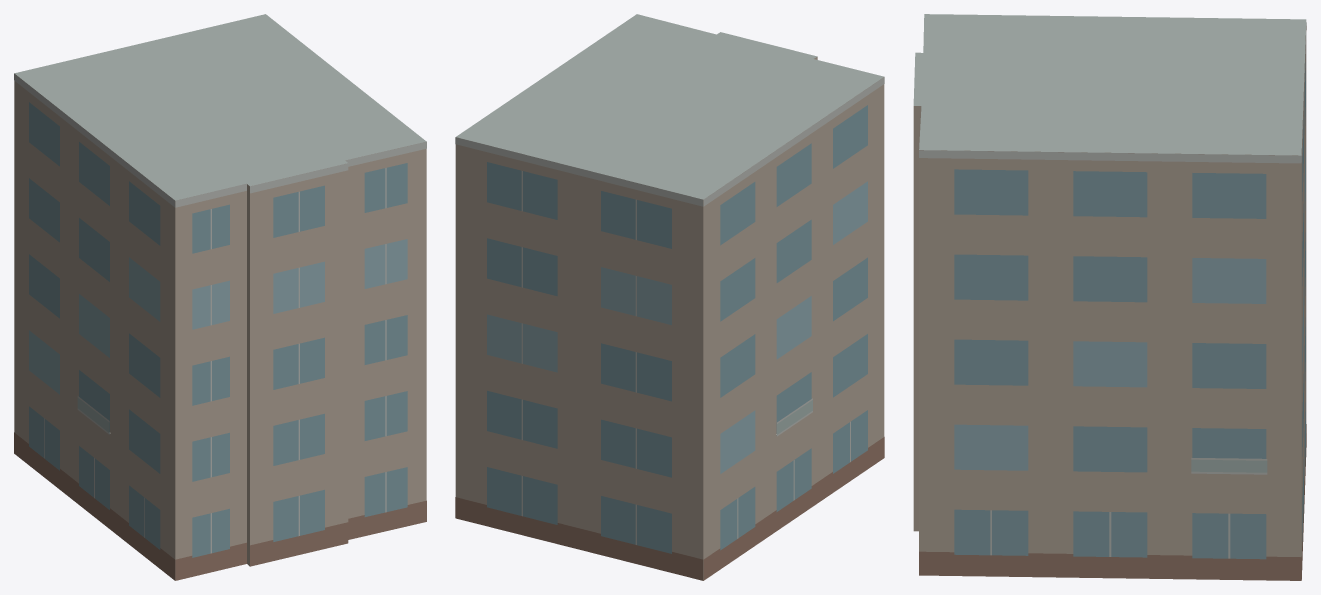
Rendered from survey-upis-32995727.glb.
3 renders of one model, left to right at view 1: azimuth 30°, elevation 25°; view 2: azimuth 150°, elevation 25°; view 3: azimuth 270°, elevation 25°, orthographic. The views are drawn at different scales.
Visible parts, largest first — view 1: survey-upis-32995727.tmp; view 2: survey-upis-32995727.tmp; view 3: survey-upis-32995727.tmp.
Part boxes in pixels (<box>): survey-upis-32995727.tmp: <box>14,14,426,580</box>; survey-upis-32995727.tmp: <box>455,14,884,580</box>; survey-upis-32995727.tmp: <box>913,14,1306,580</box>.
Bounding box in the file's own units: 9.29 × 13 × 10.89.
